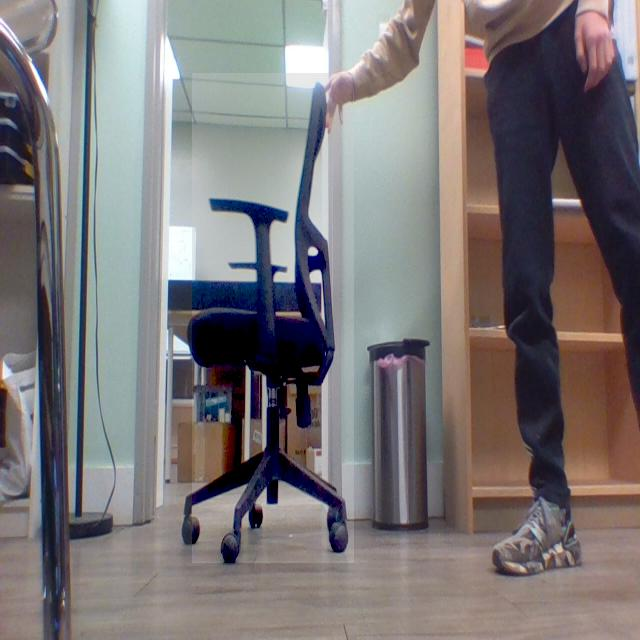black-chair: (192, 73, 355, 564)
